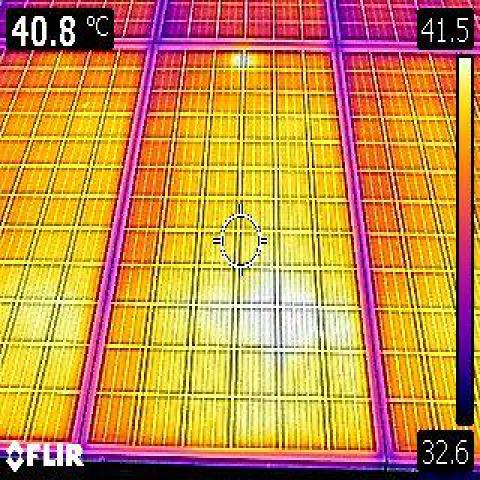fault: (232, 273, 321, 345), (227, 48, 258, 72)
